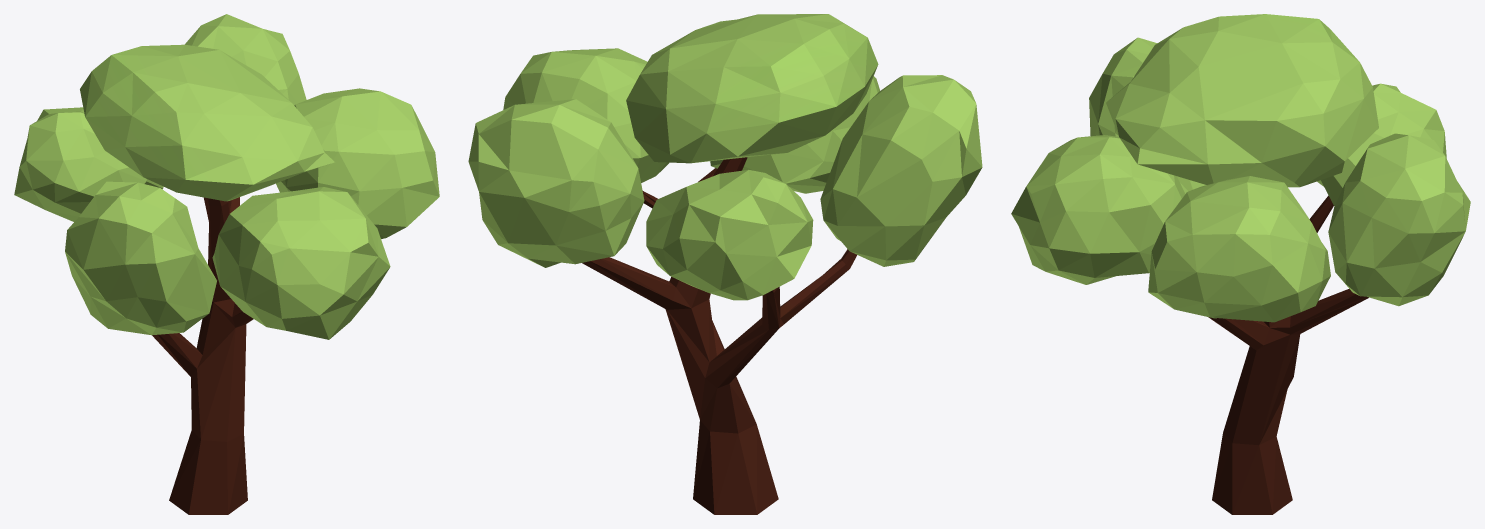
File: Tree02.fbx
The picture shows the model from 3 angles, left to right: view 1: azimuth 30°, elevation 25°; view 2: azimuth 150°, elevation 25°; view 3: azimuth 270°, elevation 25°; orthographic projection. The views are drawn at different scales.
Parts seen in each view (by area): view 1: Tree02; view 2: Tree02; view 3: Tree02.
Part boxes in pixels (bbox=[...]): Tree02: bbox=[14, 14, 439, 514]; Tree02: bbox=[468, 14, 982, 514]; Tree02: bbox=[1011, 14, 1470, 514].
Bounding box in the file's own units: 491 × 544 × 502.
1 material, 1 textured.
